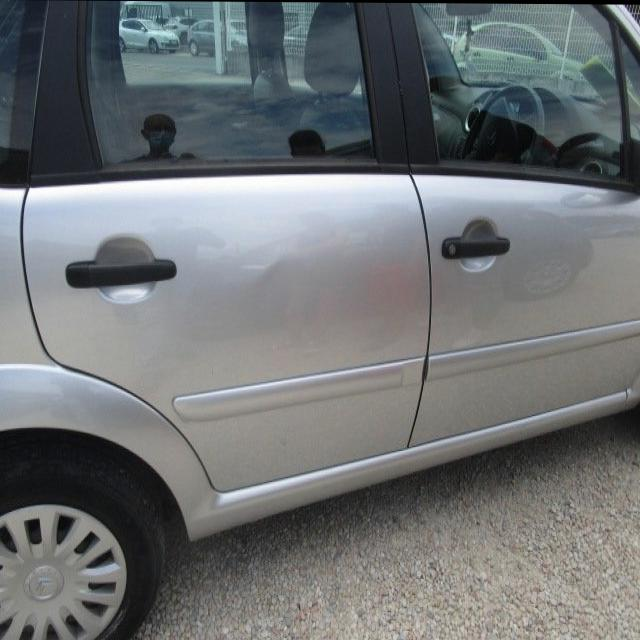porte-avant: (388, 3, 640, 454)
